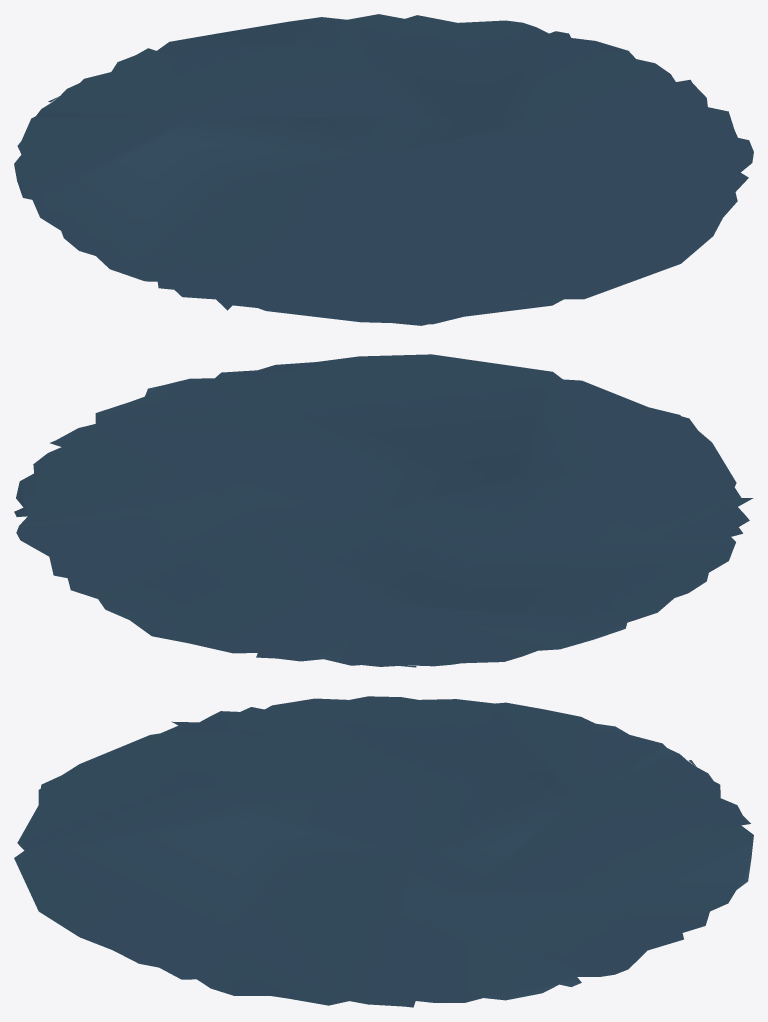
Rendered from Water-island-wave-disk-LP.fbx.
The picture shows the model from 3 angles, top to bottom: view 1: azimuth 30°, elevation 25°; view 2: azimuth 150°, elevation 25°; view 3: azimuth 270°, elevation 25°; orthographic projection.
Visible parts, largest first — view 1: Cylinder; view 2: Cylinder; view 3: Cylinder.
Boxes of the visible parts, left/top/right/bottom form: Cylinder: left=14, top=14, right=753, bottom=325; Cylinder: left=14, top=354, right=753, bottom=667; Cylinder: left=14, top=696, right=753, bottom=1007.
Size of the model in its own units: 1026 by 14.76 by 1030.
1 material, 1 textured.
